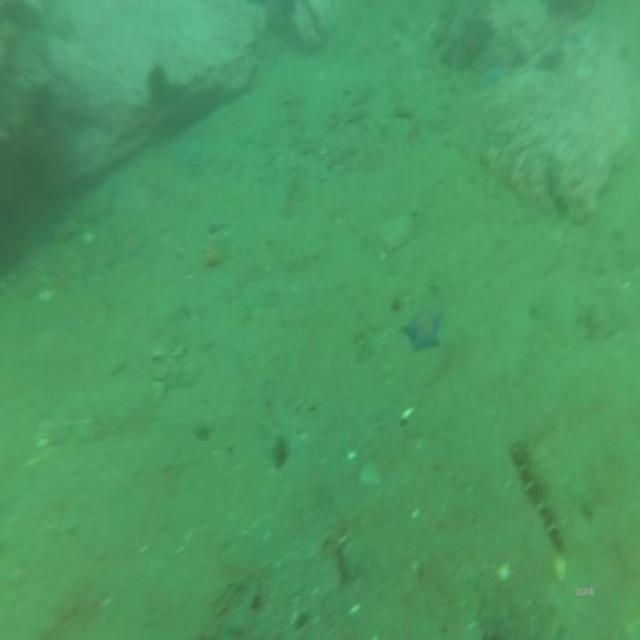echinus: (144, 58, 173, 110)
holothurian: (508, 432, 570, 556)
starfish: (401, 300, 444, 357)
